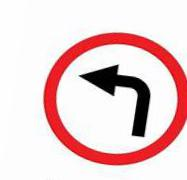left: (43, 33, 184, 165)
